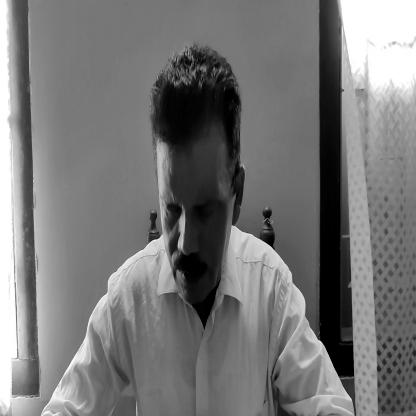Distracted: (152, 56, 246, 306)
